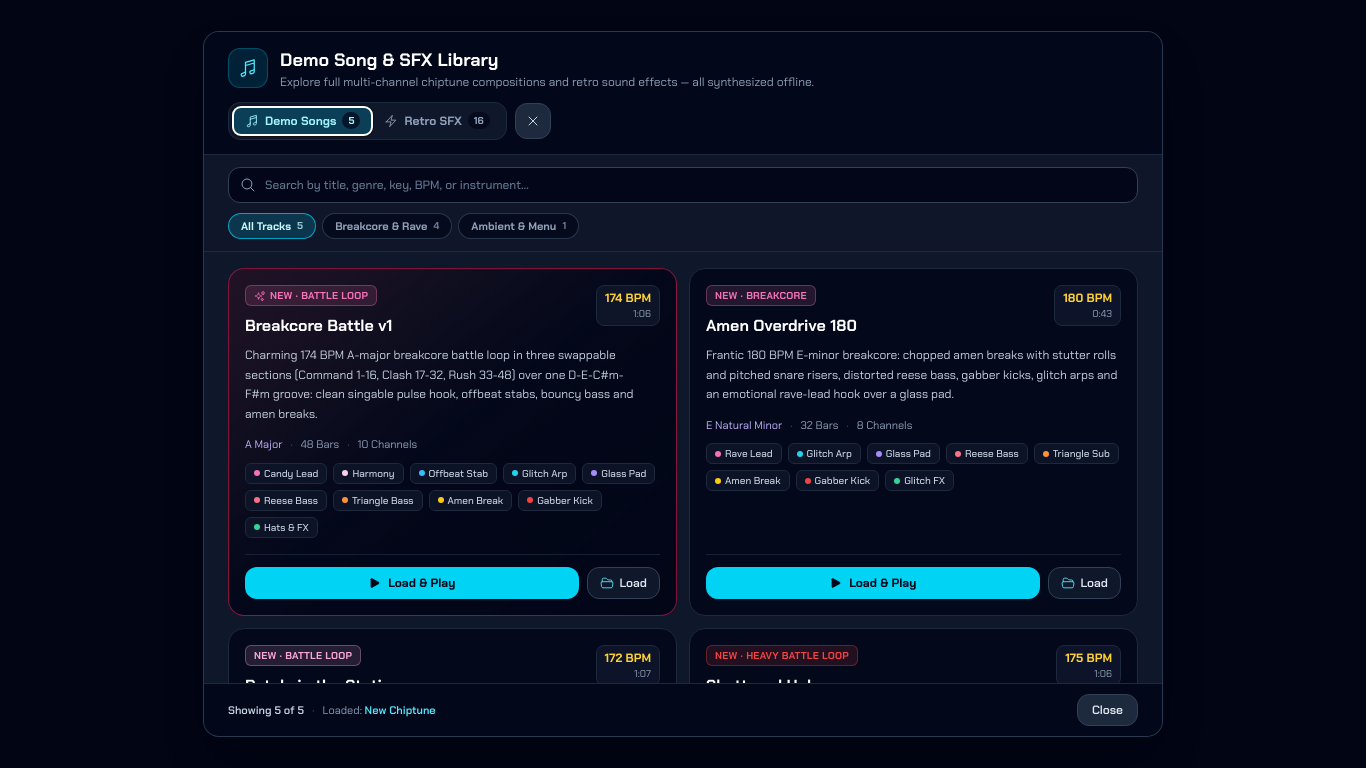
Test: DemoSongBrowserDialog › renders the breakcore demos and supports category + search filtering
The image size is (1366, 768).
Check: the heading "Demo Song & SFX Library" is shown, box [280,48,498,72]
Check: the heading "Breakcore Battle v1" is shown, box [245,314,392,338]
Click the button "Breakcore & Rave 4": [387, 226] box [322,213,452,239]
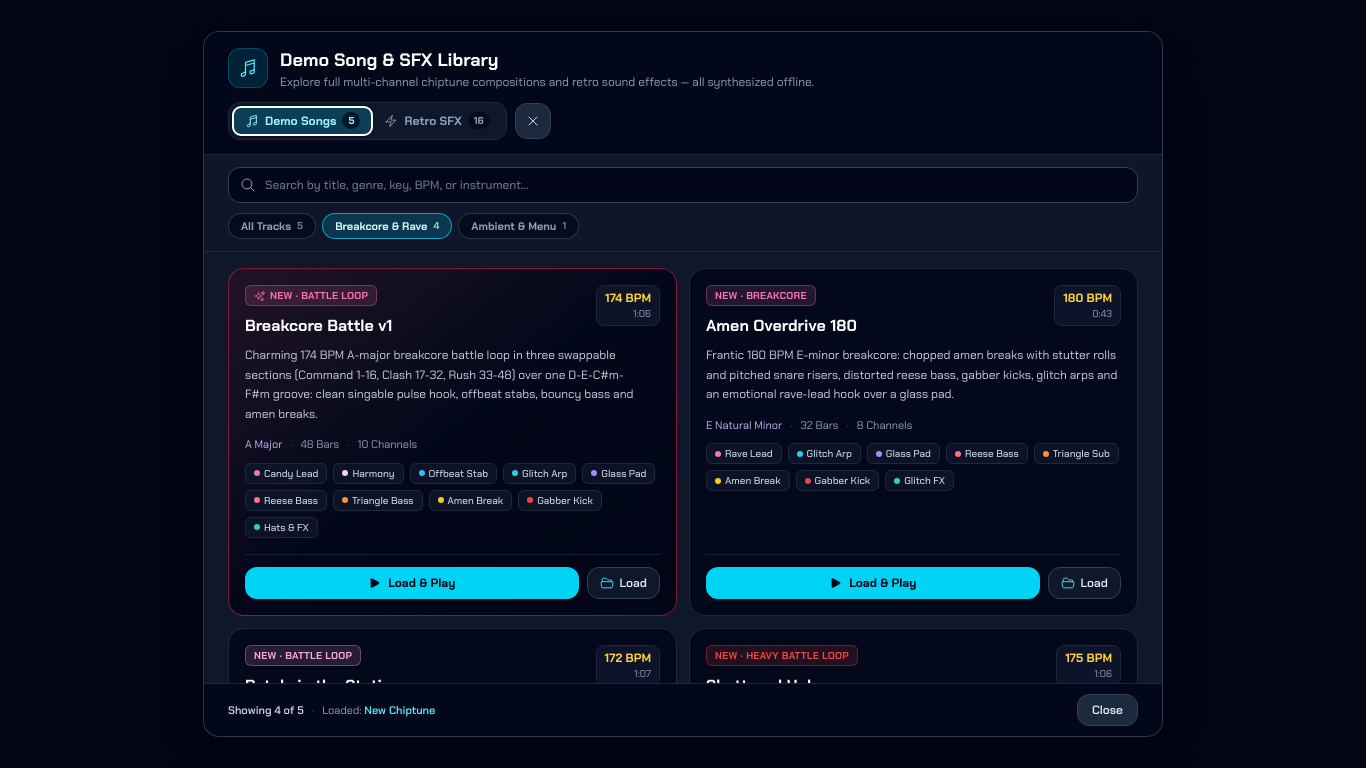
Check: the heading "Breakcore Battle v1" is shown, box [245,314,392,338]
Check: the heading "Amen Overdrive 180" is shown, box [706,314,857,338]
In the search field: [683, 185] box [228,167,1138,203], type "overdrive"
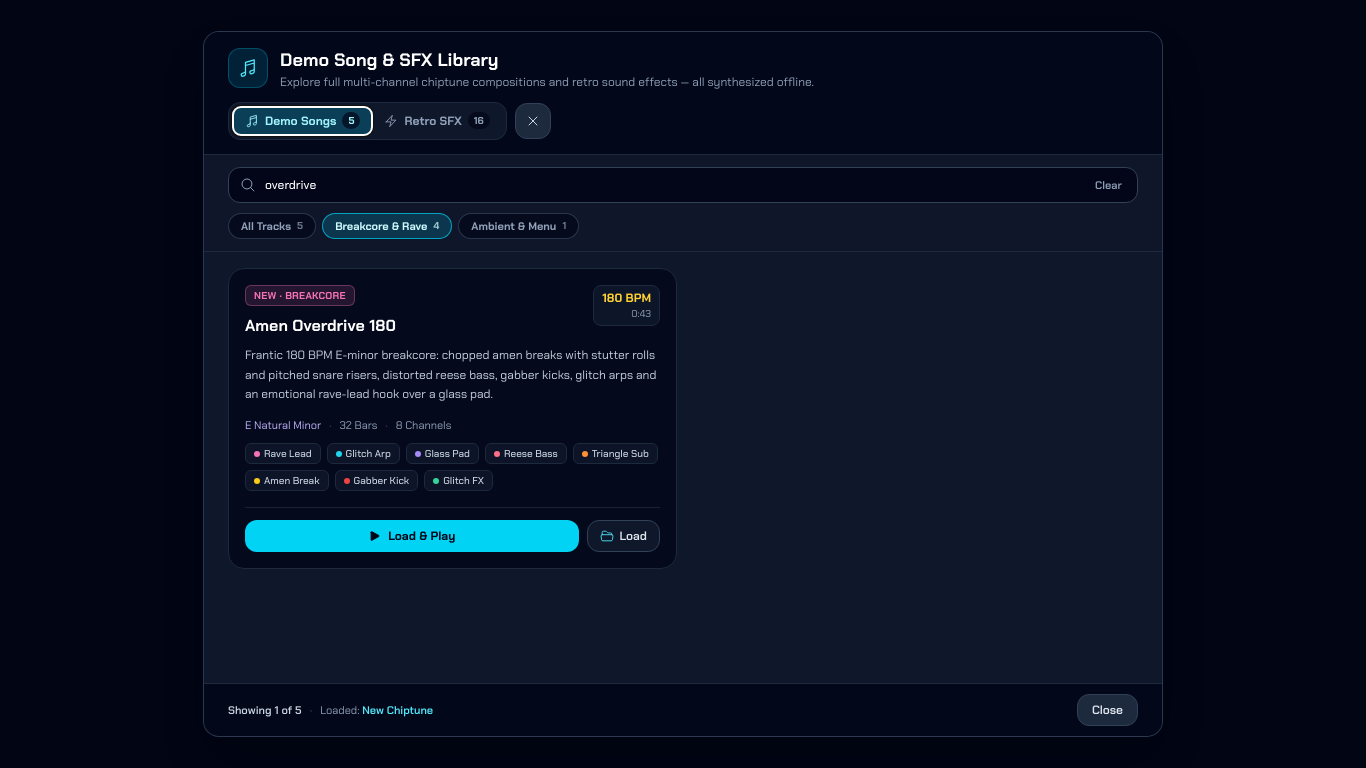
Check: the heading "Amen Overdrive 180" is shown, box [245,314,396,338]
Check: the heading "Breakcore Battle v1" is gone
